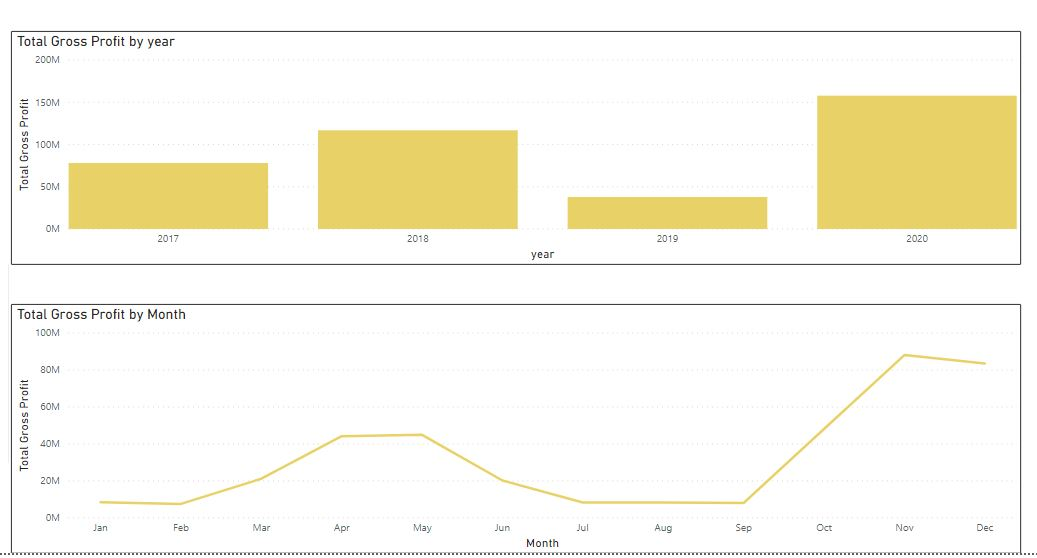

The dashboard page shown, as its layout file describes it:
{"tool":"powerbi","page":{"name":"Questions","canvas":[1280,720],"ordinal":3},"visuals":[{"type":"columnChart","fields":{"Category":["dtDate.year"],"Y":["dProduct.Total Gross Profit"]},"box":[14,92.1,1214.4,280.6],"z":0},{"type":"lineChart","fields":{"Category":["dtDate.Month"],"Y":["dProduct.Total Gross Profit"]},"box":[14,420.2,1214.4,300.1],"z":1}]}

Visuals, with their boxes on the page's 1280x720 design canvas (x1, y1, x2, y2). These are canvas units, not pixel positions in the 1037x558 screenshot, which may show the page scaled, cropped or inside an application window:
columnChart - dtDate.year x dProduct.Total Gross Profit: (14, 92, 1228, 373)
lineChart - dtDate.Month x dProduct.Total Gross Profit: (14, 420, 1228, 720)
